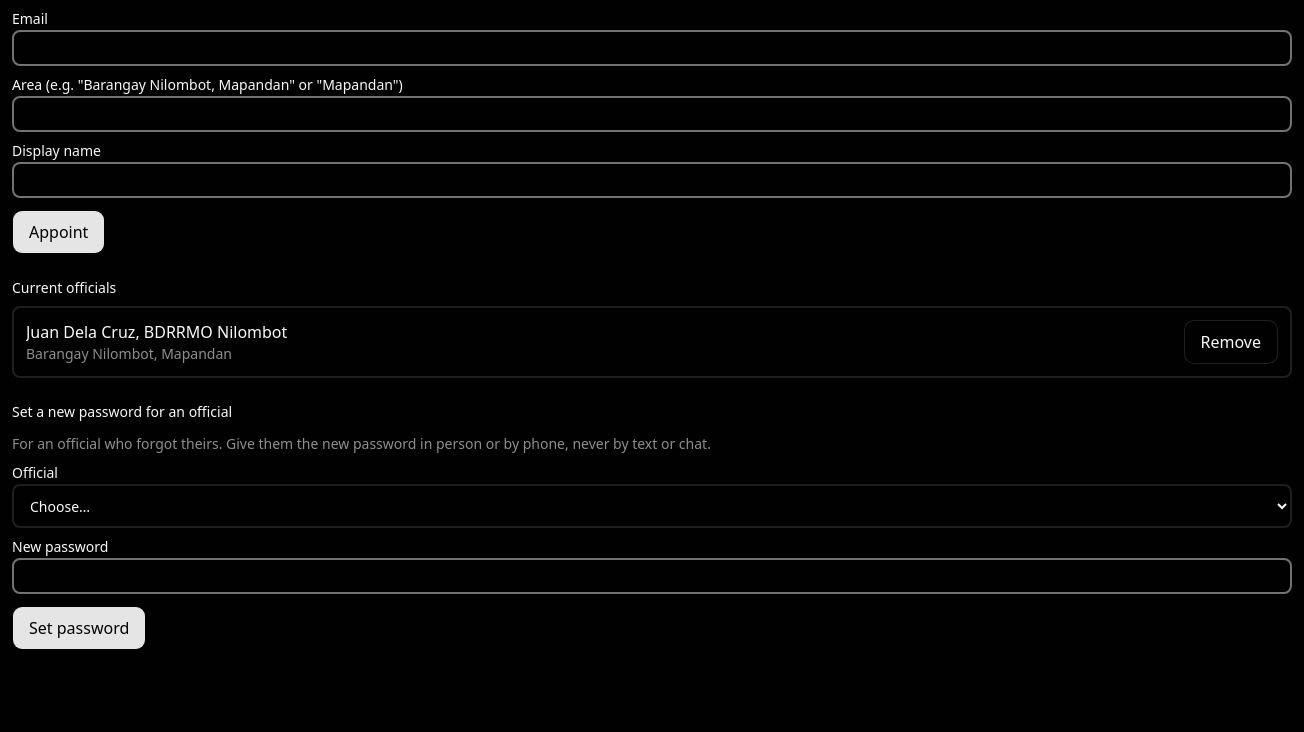
Scenario: OfficialsPanel › shows the database's refusal instead of claiming success
Select "Juan Dela Cruz, BDRRMO Nilombot — juan@example.com" in the dropdown labelled "Official": (652,506) top-left (12, 484), bottom-right (1292, 528)
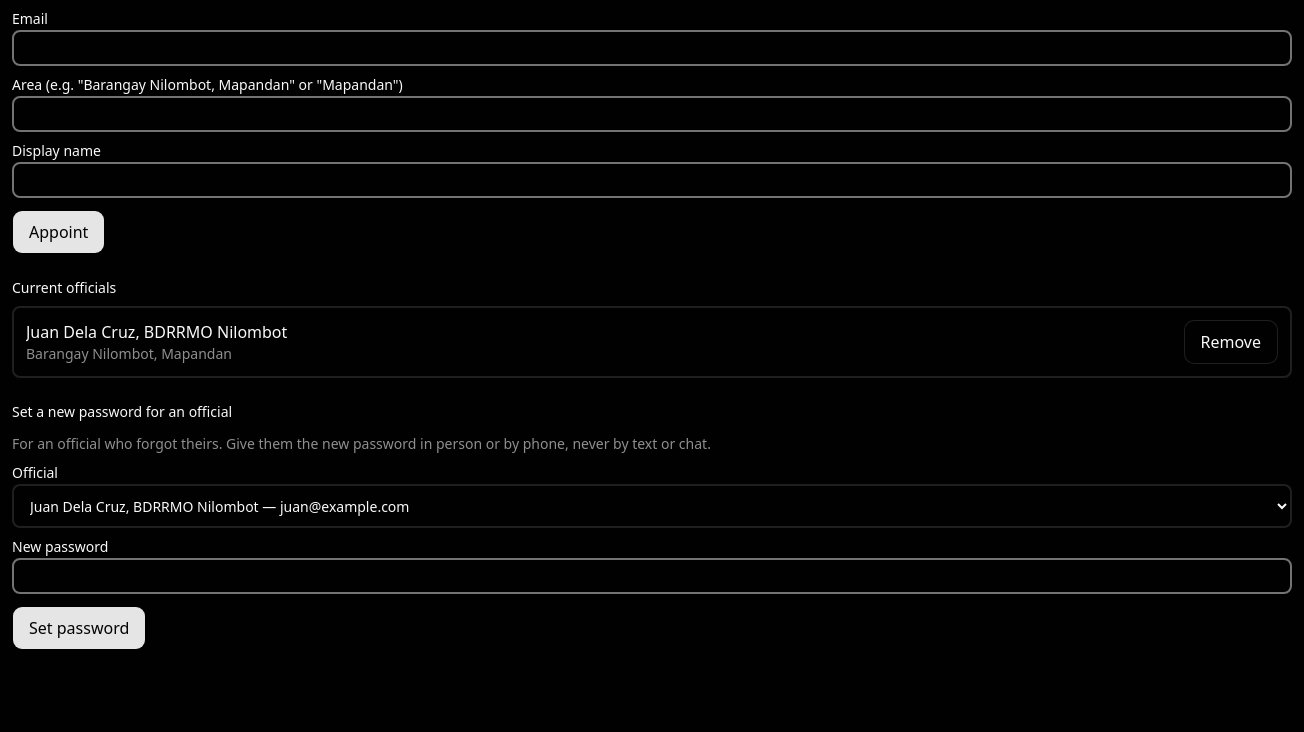
In the password field labelled "New password": (652,576) top-left (12, 558), bottom-right (1292, 594), type "newpass123"
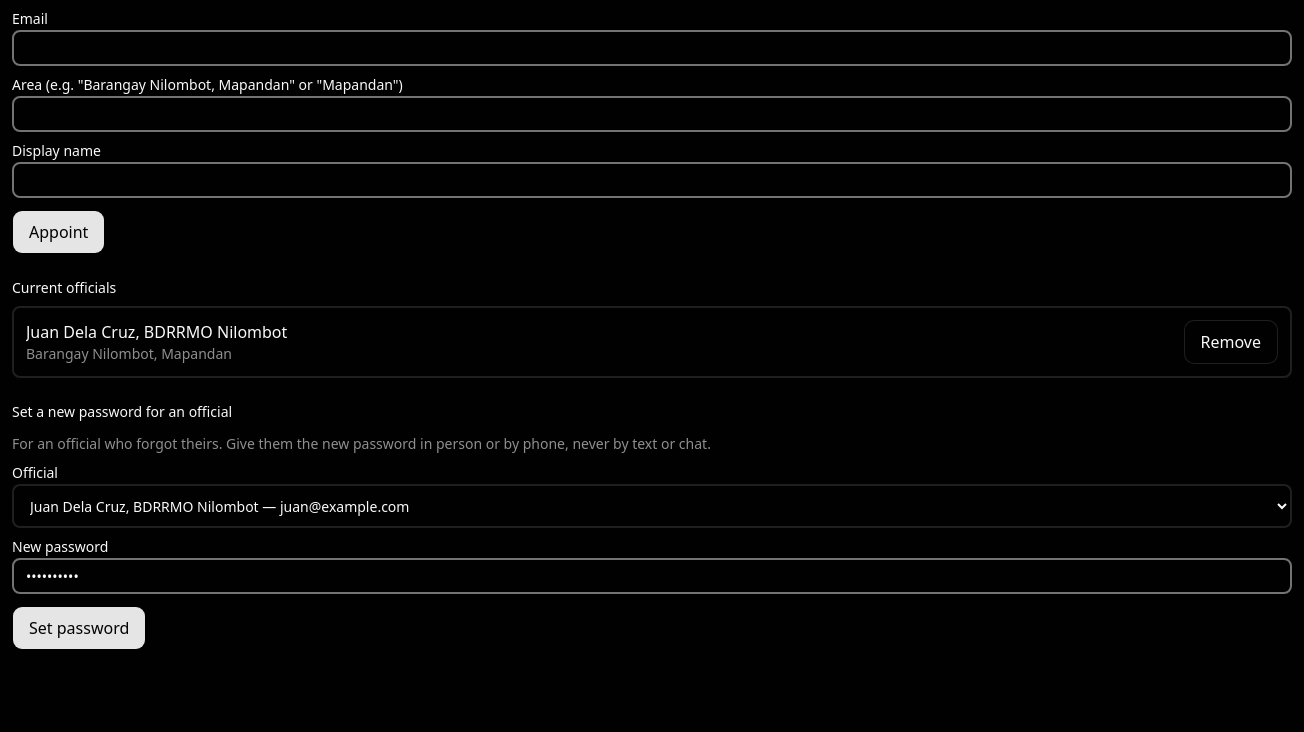
Click the button "Set password": (79,628) top-left (12, 606), bottom-right (146, 650)
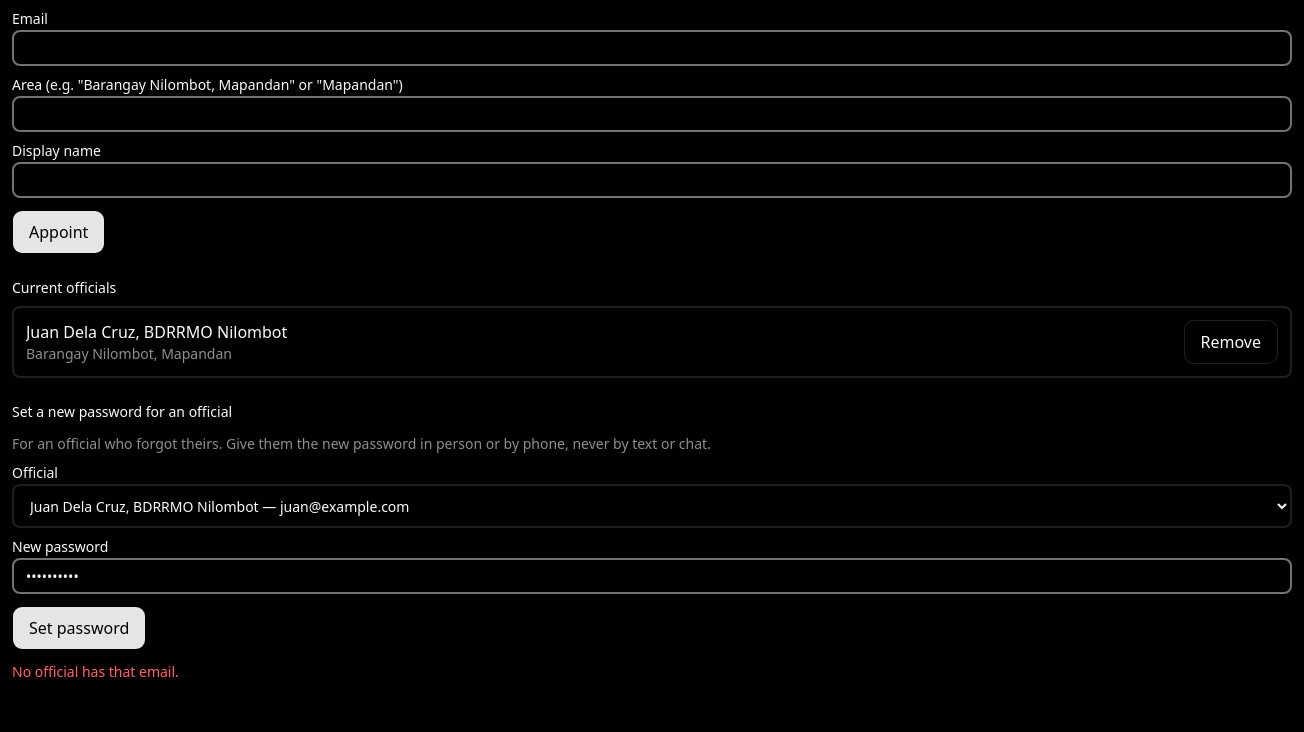
Check: the text "No official has that email." is shown, box top-left (12, 662), bottom-right (179, 681)
